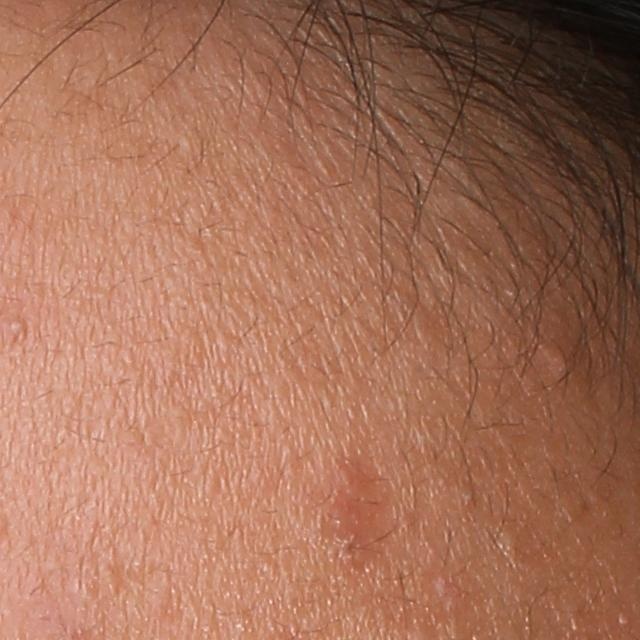comedo: (542, 334, 585, 382), (493, 516, 524, 554), (2, 314, 28, 334)
